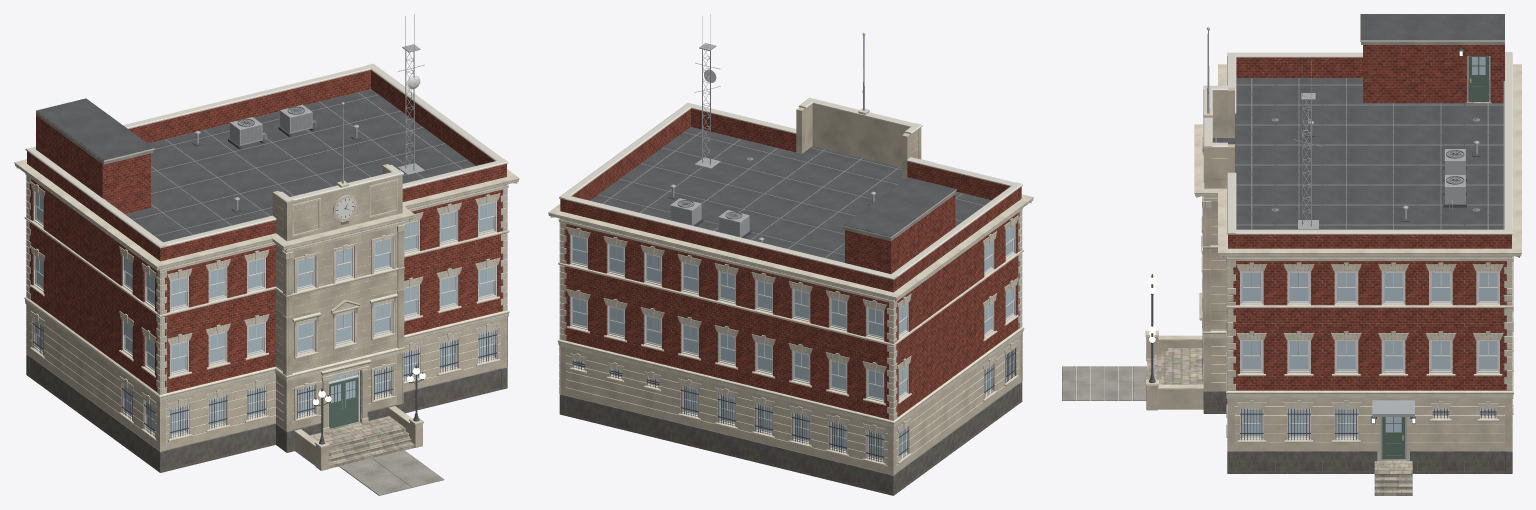
Rendered from building_assembled.glb.
3 views of the same model, side by side, from view 1: azimuth 30°, elevation 25°; view 2: azimuth 150°, elevation 25°; view 3: azimuth 270°, elevation 25° (orthographic). The views are drawn at different scales.
Visible parts, largest first — view 1: building_brick, building_membrane, building_trim, building_ashlar, building_rust, building_glass, building_plinth, building_coping, building_sash, building_frame, building_iron, building_concrete (+5 smaller); view 2: building_brick, building_membrane, building_trim, building_rust, building_glass, building_plinth, building_coping, building_ashlar, building_sash, building_frame, building_iron, building_steel (+2 smaller); view 3: building_membrane, building_brick, building_trim, building_rust, building_glass, building_ashlar, building_plinth, building_coping, building_seam, building_steel, building_frame, building_concrete (+4 smaller).
Part boxes in pixels (x1,y1,x2,y2): building_brick: (27,70,506,392); building_membrane: (36,89,475,242); building_trim: (14,159,519,447); building_ashlar: (272,164,422,470); building_rust: (26,304,507,451); building_glass: (35,192,494,434); building_plinth: (26,354,507,472); building_coping: (25,63,508,248); building_sash: (34,191,495,436); building_frame: (33,190,496,438); building_iron: (32,126,497,444); building_concrete: (36,112,444,495); building_brick: (560,108,1021,419); building_membrane: (590,127,991,262); building_trim: (548,108,1033,465); building_rust: (559,333,1022,475); building_glass: (572,226,1013,458); building_plinth: (559,382,1022,495); building_coping: (559,97,1022,279); building_ashlar: (796,104,921,178); building_sash: (571,225,1014,460); building_frame: (570,224,1015,462); building_iron: (572,219,1015,462); building_steel: (670,14,875,242); building_membrane: (1212,14,1504,229); building_brick: (1228,45,1511,390); building_trim: (1145,64,1521,442); building_rust: (1227,398,1512,460); building_glass: (1242,57,1497,435); building_ashlar: (1146,87,1234,410); building_plinth: (1203,391,1512,473); building_coping: (1203,14,1512,234); building_seam: (1215,78,1503,229); building_steel: (1207,30,1490,459); building_frame: (1240,271,1499,439); building_concrete: (1062,42,1504,400).
Bounding box in the file's own units: 20.64 × 17.82 × 19.43.
28 materials, 12 textured.
